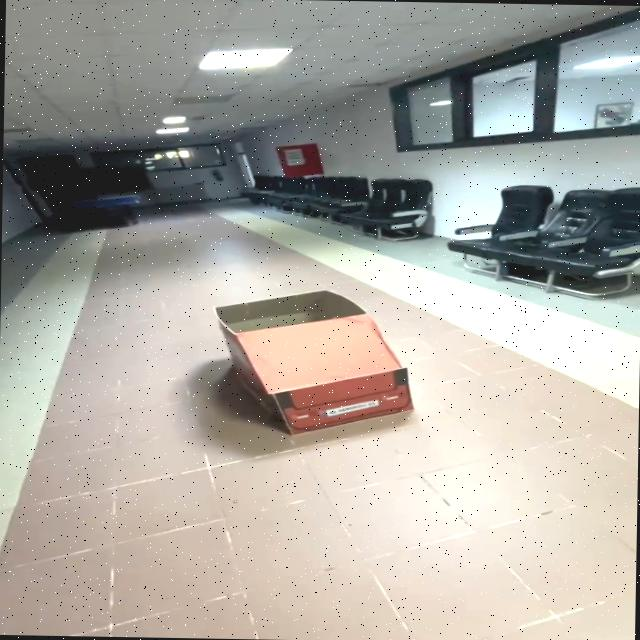red_car: (194, 259, 441, 448)
